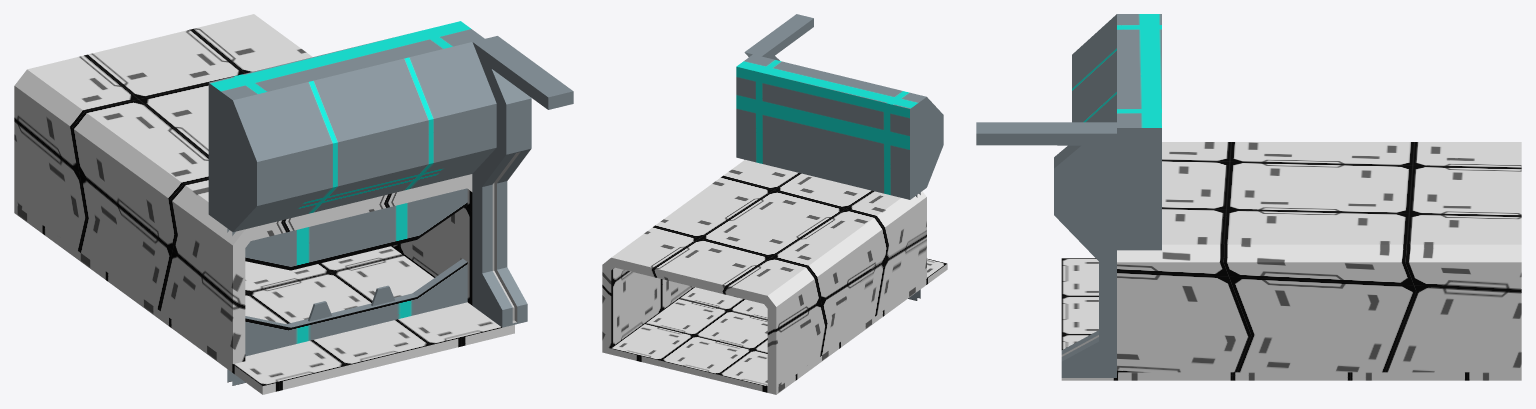
The model's file is BackGround.fbx.
3 views of the same model, side by side, from view 1: azimuth 30°, elevation 25°; view 2: azimuth 150°, elevation 25°; view 3: azimuth 270°, elevation 25° (orthographic). The views are drawn at different scales.
Visible parts, largest first — view 1: geo1; view 2: geo1; view 3: geo1.
Boxes of the visible parts, x1,y1,x2,y2 form: geo1: (14, 14, 573, 394); geo1: (602, 14, 947, 394); geo1: (976, 14, 1521, 380).
Size of the model in its own units: 6.3 by 6.6 by 12.13.
